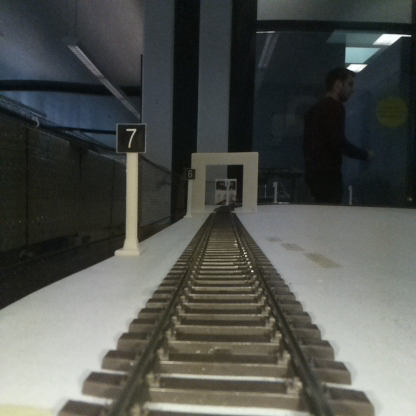black-info-6: (184, 168, 195, 217)
black-info-7: (116, 123, 145, 255)
